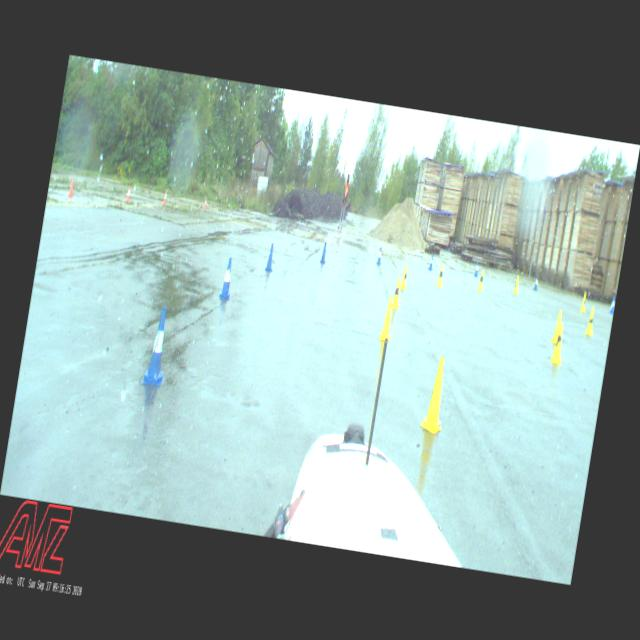blue_cone: (141, 306, 175, 386), (218, 256, 236, 302), (264, 243, 276, 273), (320, 241, 328, 264), (376, 246, 384, 266), (532, 274, 540, 291), (428, 252, 435, 270), (609, 296, 616, 314), (474, 261, 480, 277)
orange_cone: (68, 178, 76, 198), (126, 186, 132, 202), (163, 190, 169, 204), (204, 196, 208, 208)
yellow_cone: (419, 356, 454, 436), (378, 296, 396, 340), (550, 322, 568, 363), (391, 276, 404, 310), (584, 306, 598, 337), (551, 310, 562, 340), (400, 263, 410, 289), (436, 264, 446, 288), (478, 270, 486, 292), (580, 292, 588, 314), (514, 275, 520, 293)
